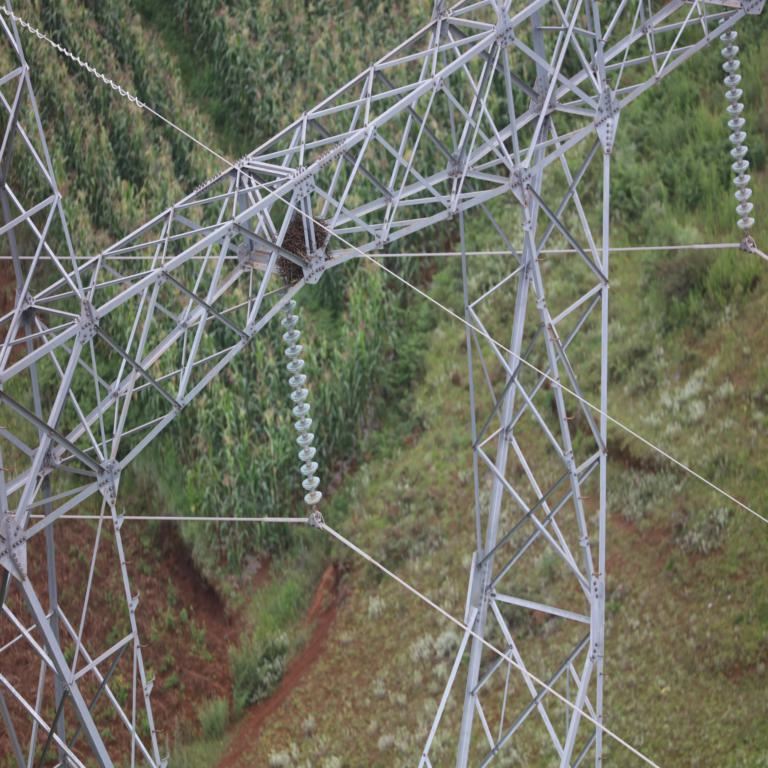nest: (277, 217, 329, 277)
